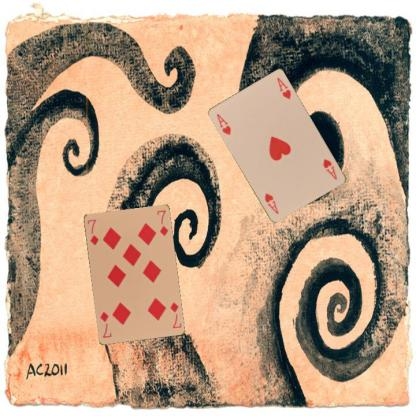7d: (84, 217, 100, 246), (167, 300, 182, 330)
Ah: (214, 111, 233, 136), (320, 156, 338, 181)
